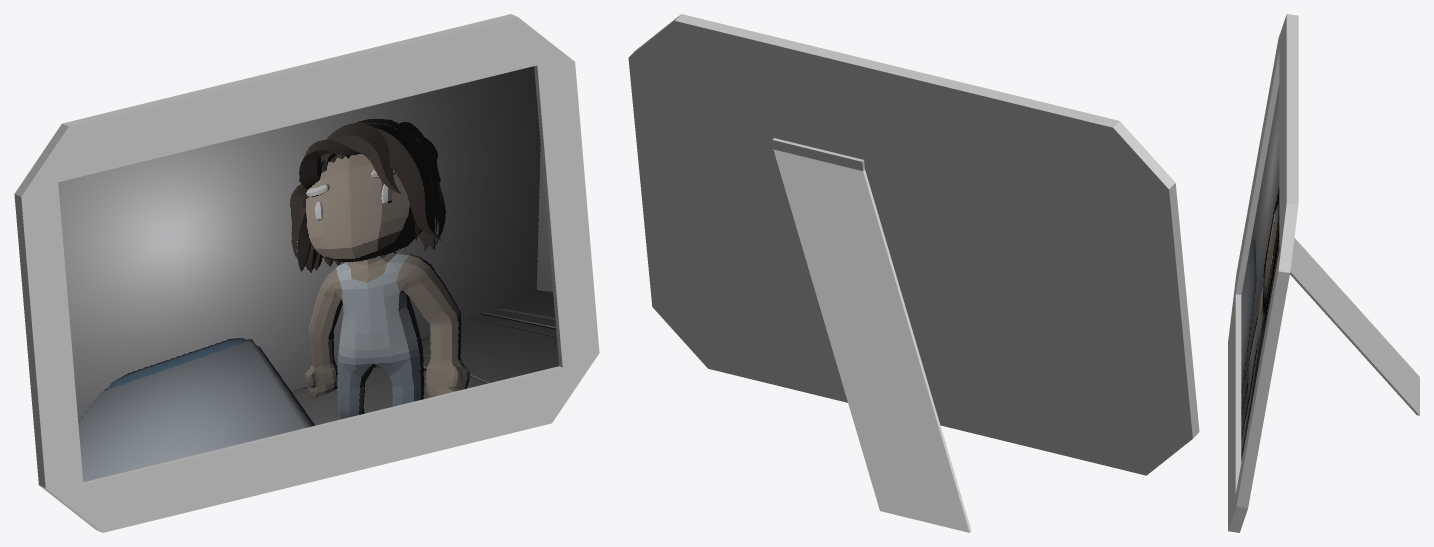
Rendered from PortraitMother.fbx.
3 renders of one model, left to right at view 1: azimuth 30°, elevation 25°; view 2: azimuth 150°, elevation 25°; view 3: azimuth 270°, elevation 25°, orthographic. The views are drawn at different scales.
Parts seen in each view (by area): view 1: PictureFrame; view 2: PictureFrame; view 3: PictureFrame.
Boxes of the visible parts, x1,y1,x2,y2 form: PictureFrame: (14, 14, 599, 532); PictureFrame: (628, 14, 1199, 532); PictureFrame: (1228, 14, 1419, 532).
Bounding box in the file's own units: 15 × 9.94 × 5.23.
